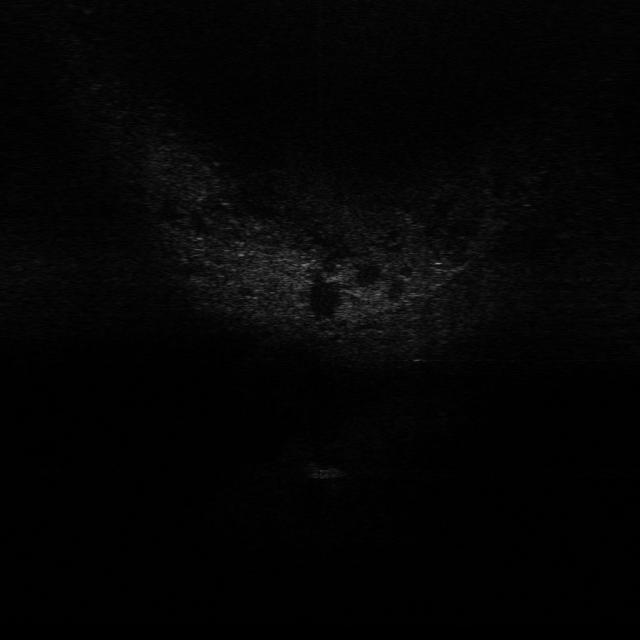cube: (304, 461, 348, 480)
